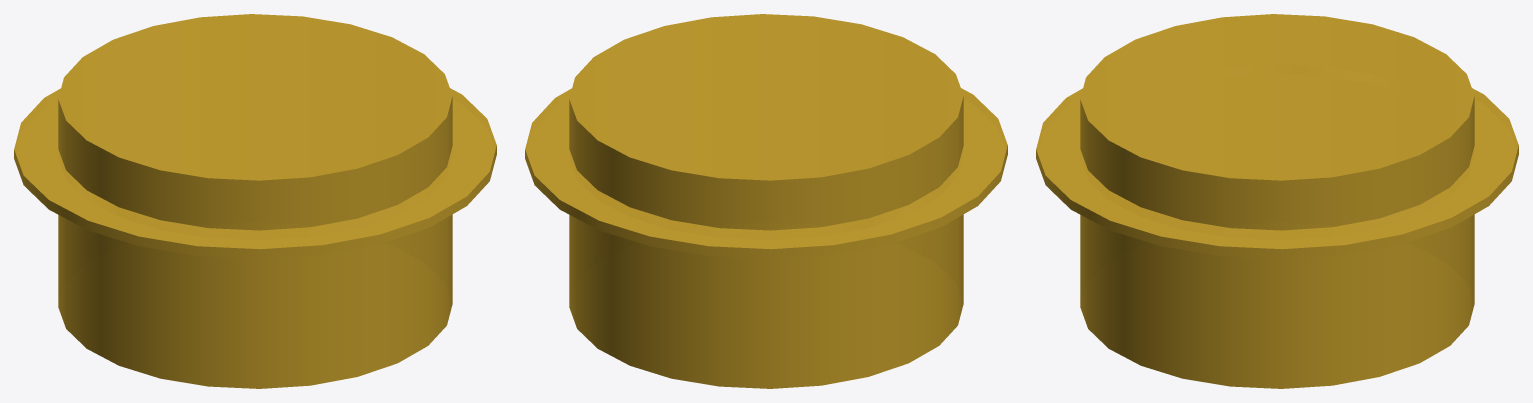
Rendered from original-1.obj.
The picture shows the model from 3 angles, left to right: view 1: azimuth 30°, elevation 25°; view 2: azimuth 150°, elevation 25°; view 3: azimuth 270°, elevation 25°; orthographic projection.
Visible parts, largest first — view 1: Group1/mesh1/mesh1-geometry#mesh1-geometry; view 2: Group1/mesh1/mesh1-geometry#mesh1-geometry; view 3: Group1/mesh1/mesh1-geometry#mesh1-geometry.
Part boxes in pixels (left/top/right/bottom): Group1/mesh1/mesh1-geometry#mesh1-geometry: left=14, top=14, right=496, bottom=388; Group1/mesh1/mesh1-geometry#mesh1-geometry: left=525, top=14, right=1007, bottom=388; Group1/mesh1/mesh1-geometry#mesh1-geometry: left=1036, top=14, right=1518, bottom=388.
Bounding box in the file's own units: 0.2963 × 0.1411 × 0.2963.
